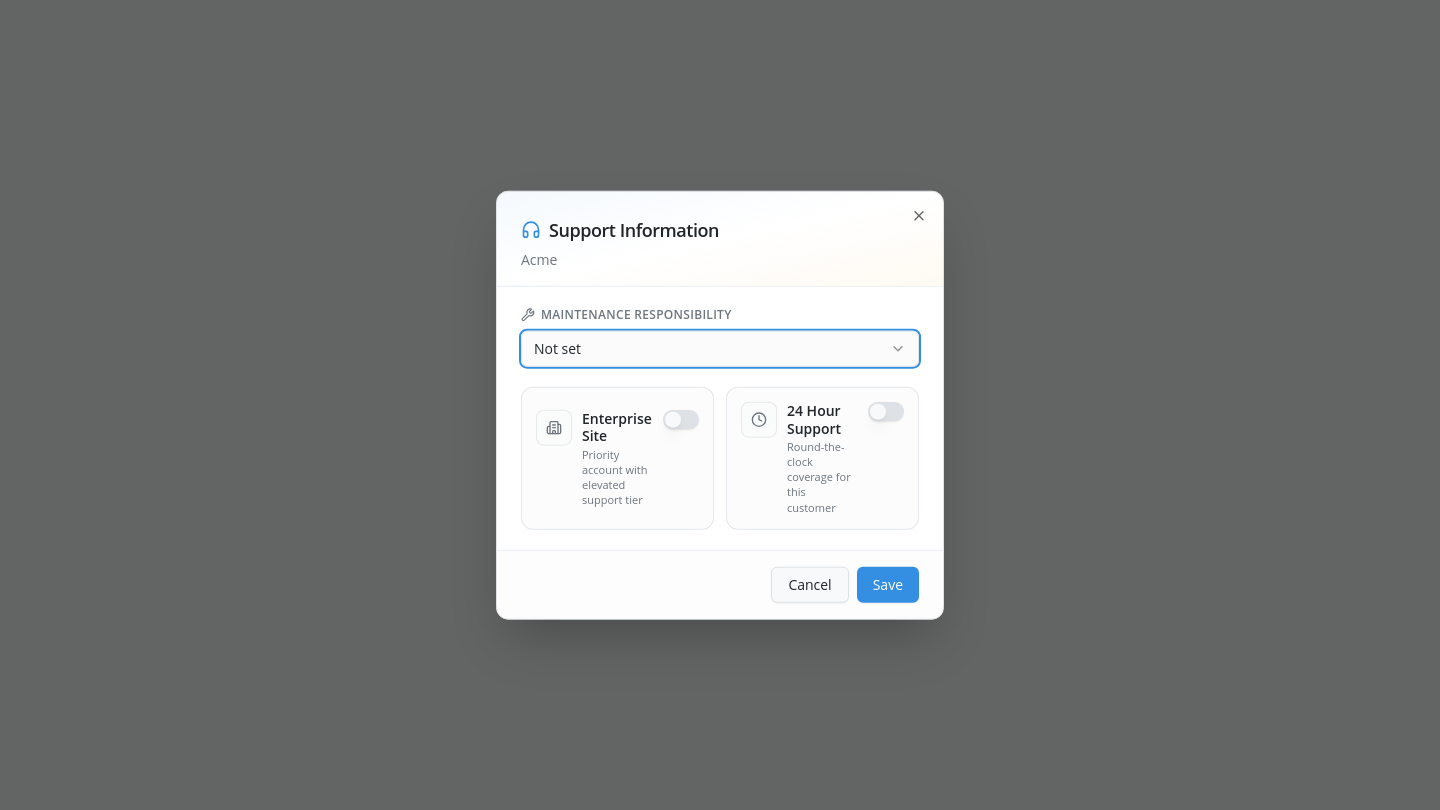
maintenance responsibility › reveals the free-text box when Other is chosen
Click the dropdown. click: (558, 348)
box: 521,331 -> 919,367
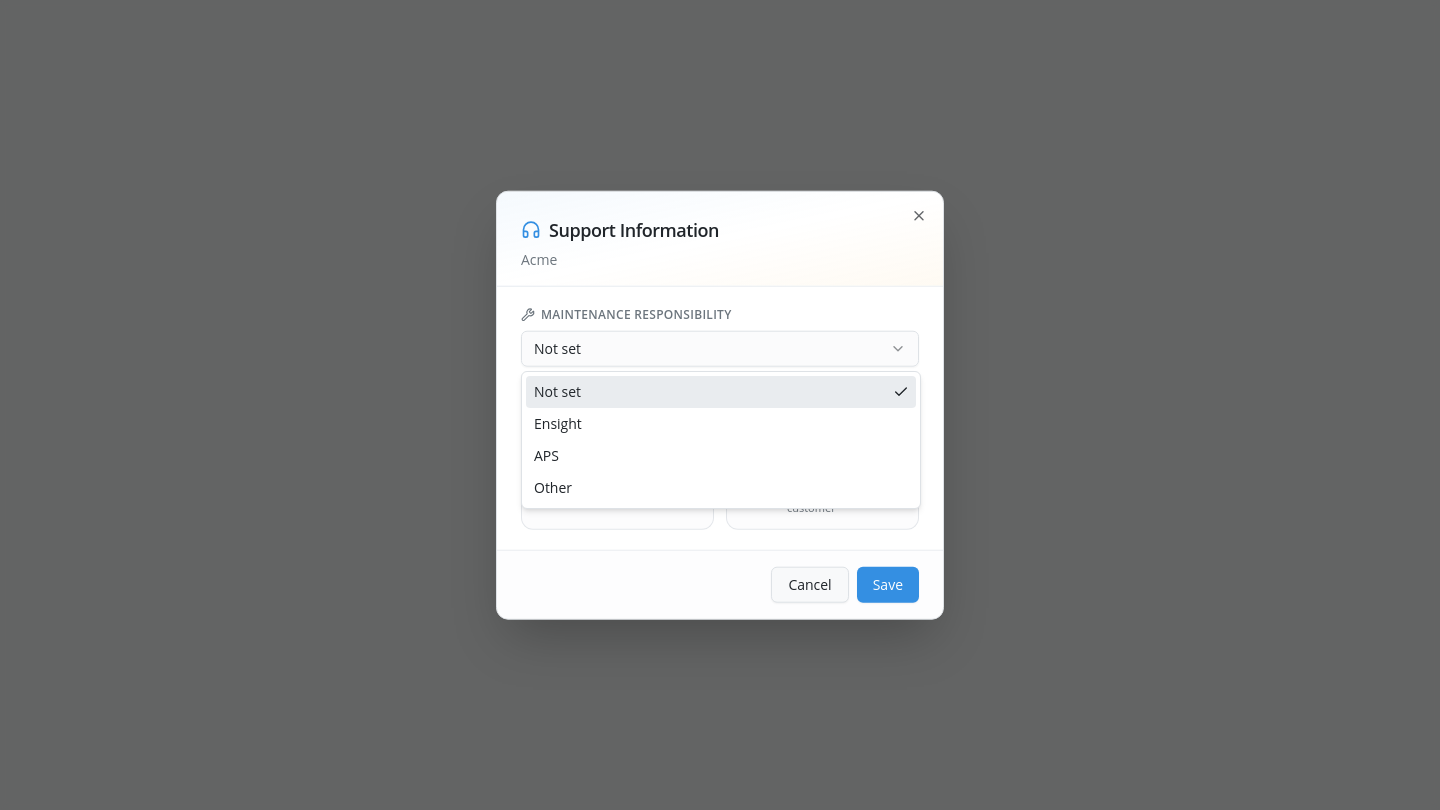
Click the option "Other". click: (553, 488)
box: 534,478 -> 572,497
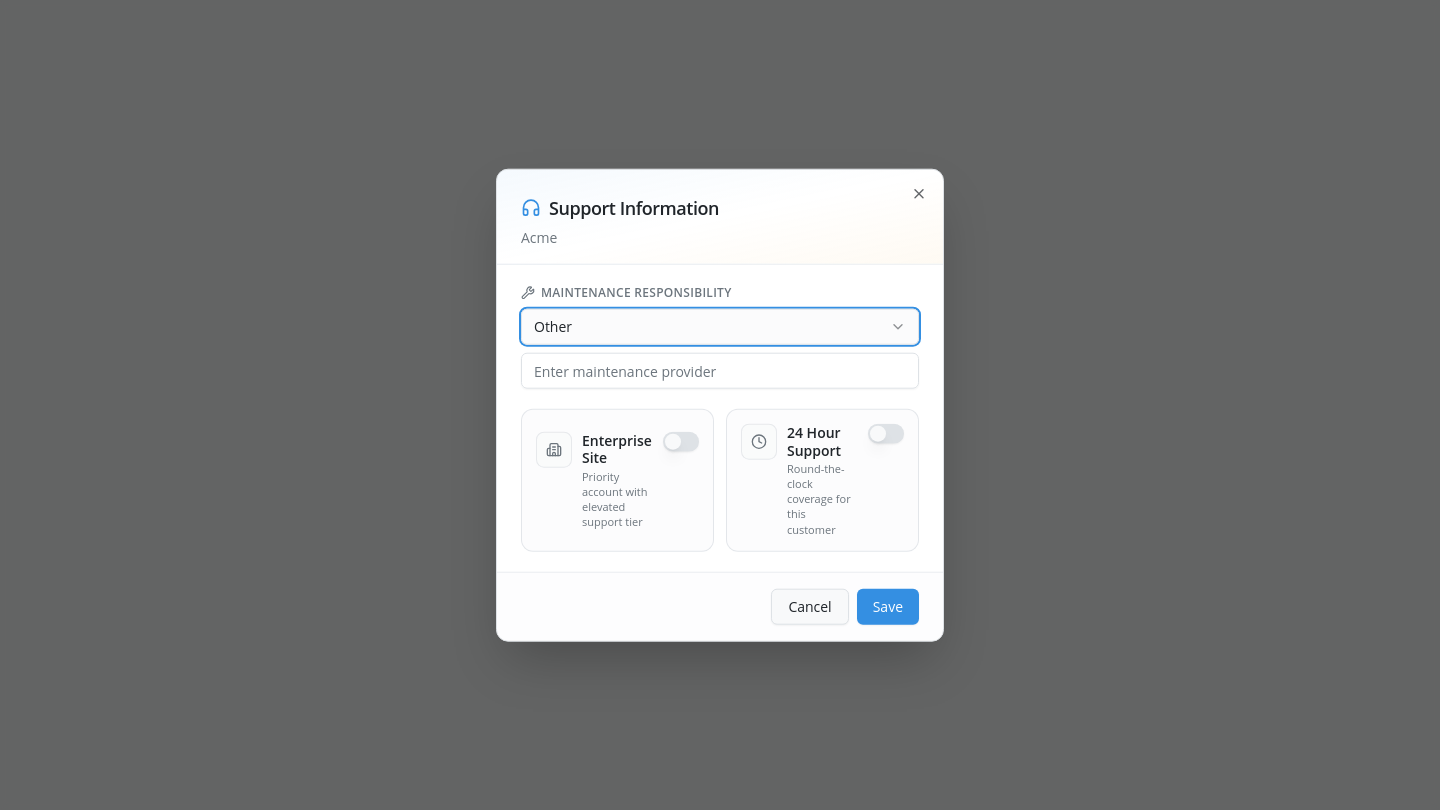
Now the field with placeholder "Enter maintenance provider" is shown, box 521,353 -> 919,389
